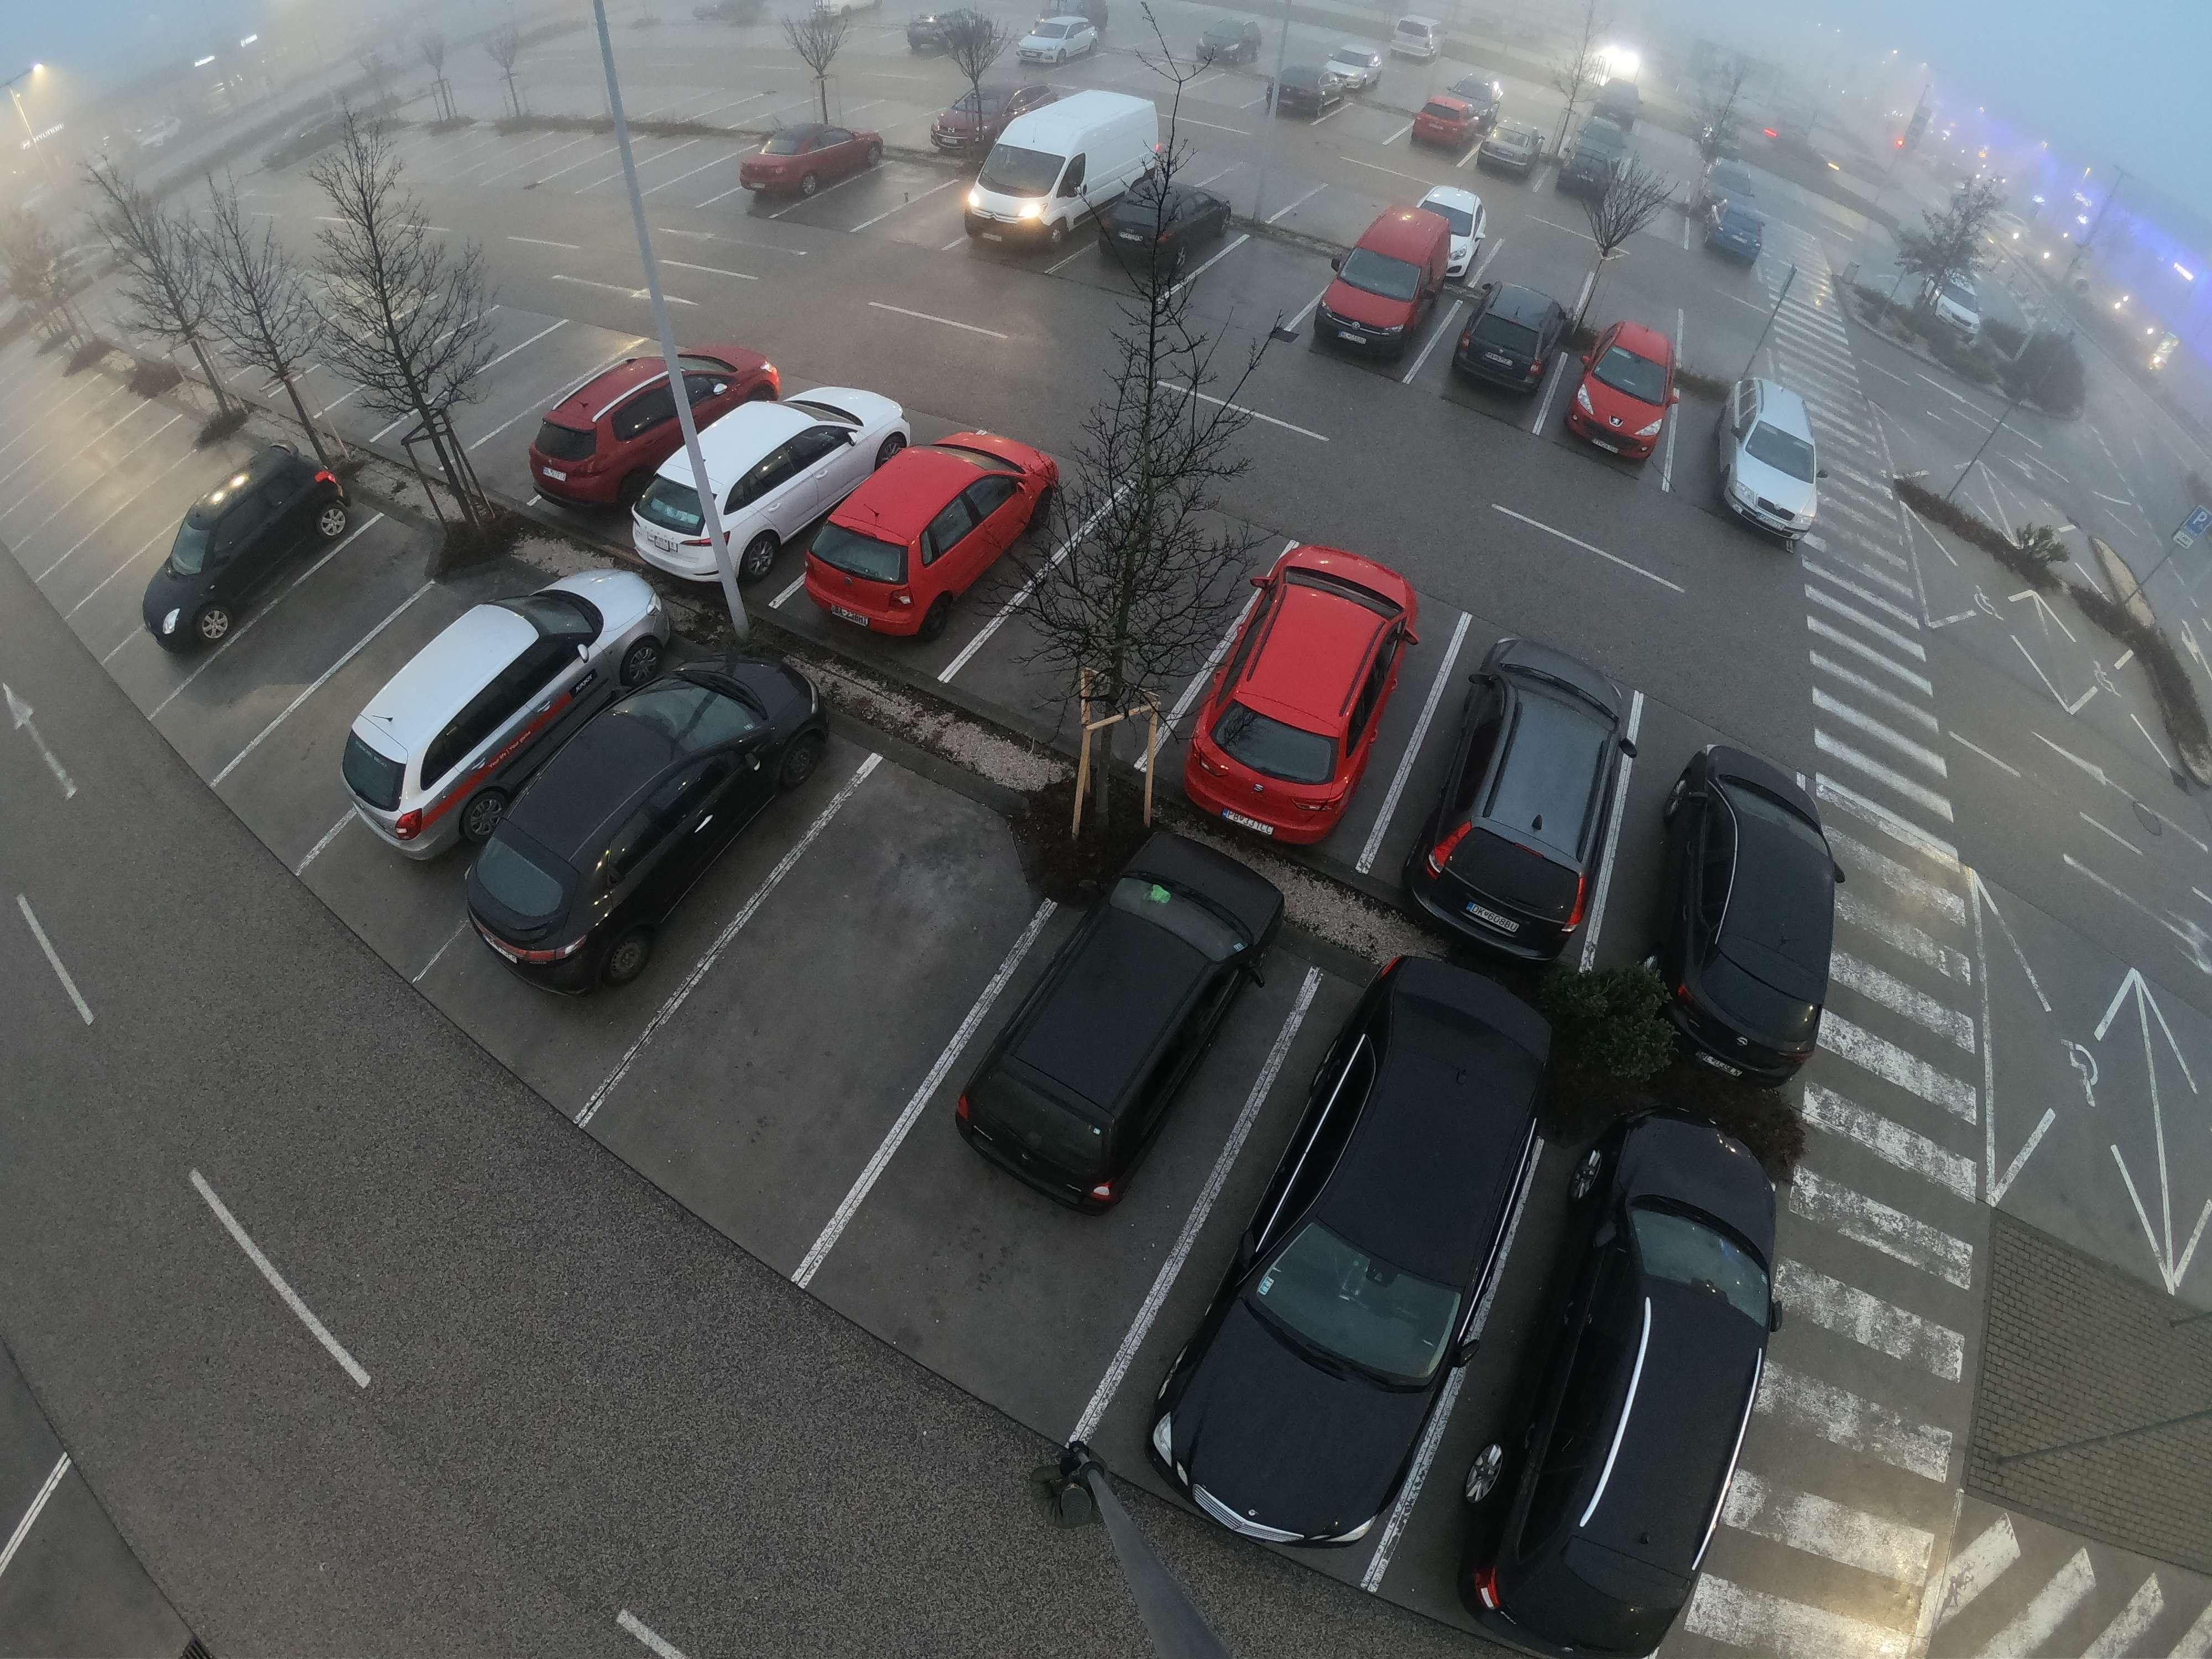empty: (1155, 911, 1576, 1586), (1524, 1107, 1818, 1626), (916, 856, 1282, 1223), (470, 660, 810, 976), (324, 584, 620, 866), (1157, 540, 1425, 843), (1642, 734, 1879, 1073), (1423, 638, 1637, 943), (641, 383, 892, 582), (806, 430, 1042, 640), (136, 465, 345, 660), (528, 343, 740, 500), (953, 94, 1167, 244), (1702, 380, 1850, 537), (1313, 213, 1458, 357), (1557, 319, 1695, 464), (1453, 289, 1576, 408), (742, 122, 883, 213), (1108, 178, 1233, 277), (1268, 64, 1353, 131), (1554, 146, 1625, 211), (1475, 117, 1545, 181)
occupied: (754, 894, 958, 1066), (1043, 528, 1202, 681), (254, 582, 369, 673), (862, 157, 960, 249), (286, 678, 385, 769), (493, 354, 585, 416), (1219, 246, 1298, 317), (105, 471, 197, 528)
